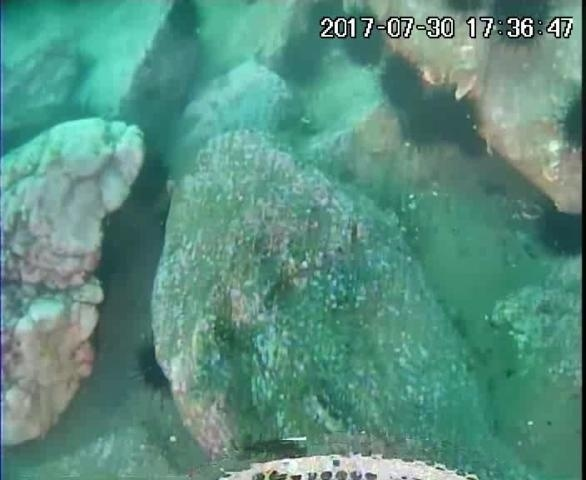echinus: (399, 81, 490, 160), (482, 1, 560, 56), (275, 29, 331, 89), (375, 54, 429, 114), (336, 17, 395, 71), (532, 203, 585, 262), (126, 152, 175, 212), (132, 340, 175, 400), (551, 85, 585, 157), (161, 1, 208, 44)
